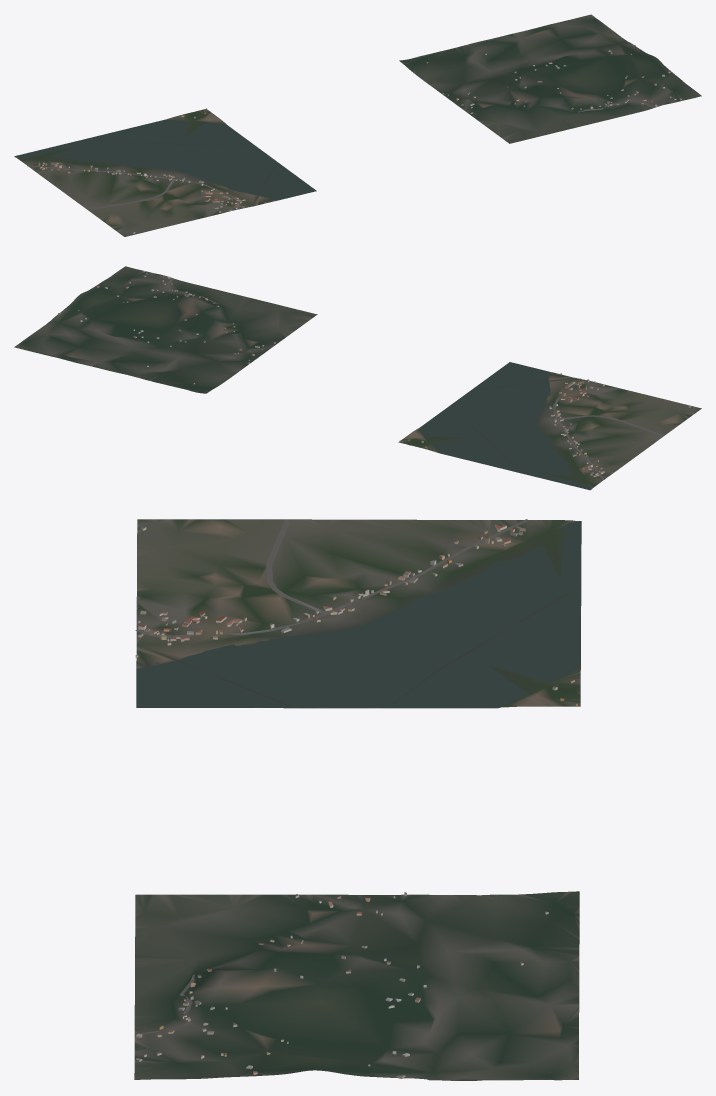
The picture shows the model from 3 angles, top to bottom: view 1: azimuth 30°, elevation 25°; view 2: azimuth 150°, elevation 25°; view 3: azimuth 270°, elevation 25°; orthographic projection. The views are drawn at different scales.
Visible parts, largest first — view 1: ground, water, buildings, roads; view 2: ground, water, buildings, roads; view 3: ground, water, buildings, roads.
Boxes of the visible parts, bbox=[...] form: ground: bbox=[14, 14, 701, 236]; water: bbox=[15, 119, 316, 200]; buildings: bbox=[38, 45, 681, 233]; roads: bbox=[27, 99, 655, 209]; ground: bbox=[14, 266, 701, 490]; water: bbox=[419, 362, 590, 489]; buildings: bbox=[58, 271, 691, 476]; roads: bbox=[168, 278, 664, 480]; ground: bbox=[134, 519, 581, 1080]; water: bbox=[136, 521, 581, 707]; buildings: bbox=[135, 524, 577, 1078]; roads: bbox=[134, 519, 529, 1035].
Bounding box in the file's own units: 4208 × 48.29 × 1411.
